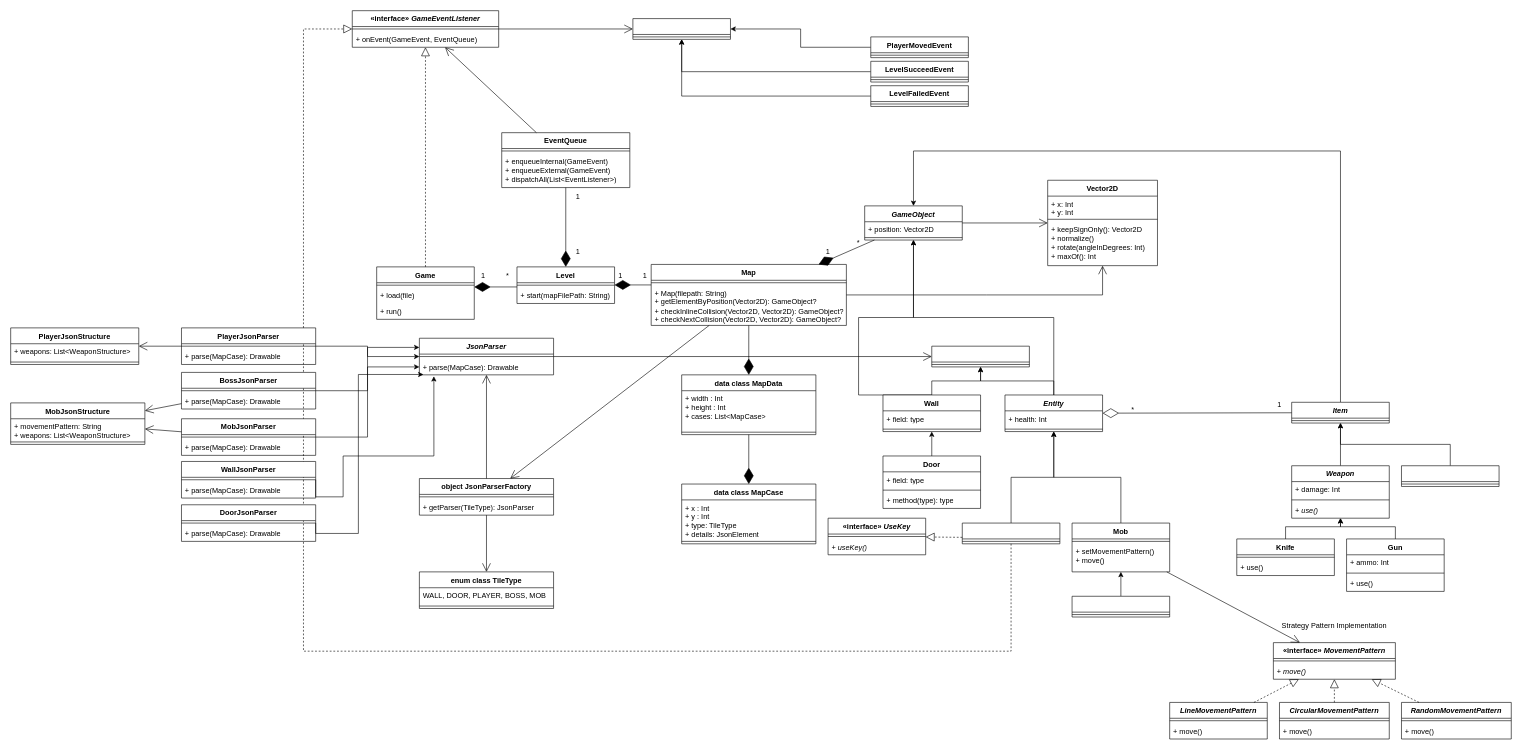
Image size: 1522x752. Some labels were removed from this diagram. The shapes that lost their labels are listed below. From the top down, each one's centre as x and y in pixels, then its label:
At (681,28): "GameEvent".
At (980,356): "«interface» Drawable".
At (1450,475): "Key".
At (1011,533): "Player".
At (1120,606): "Boss".
